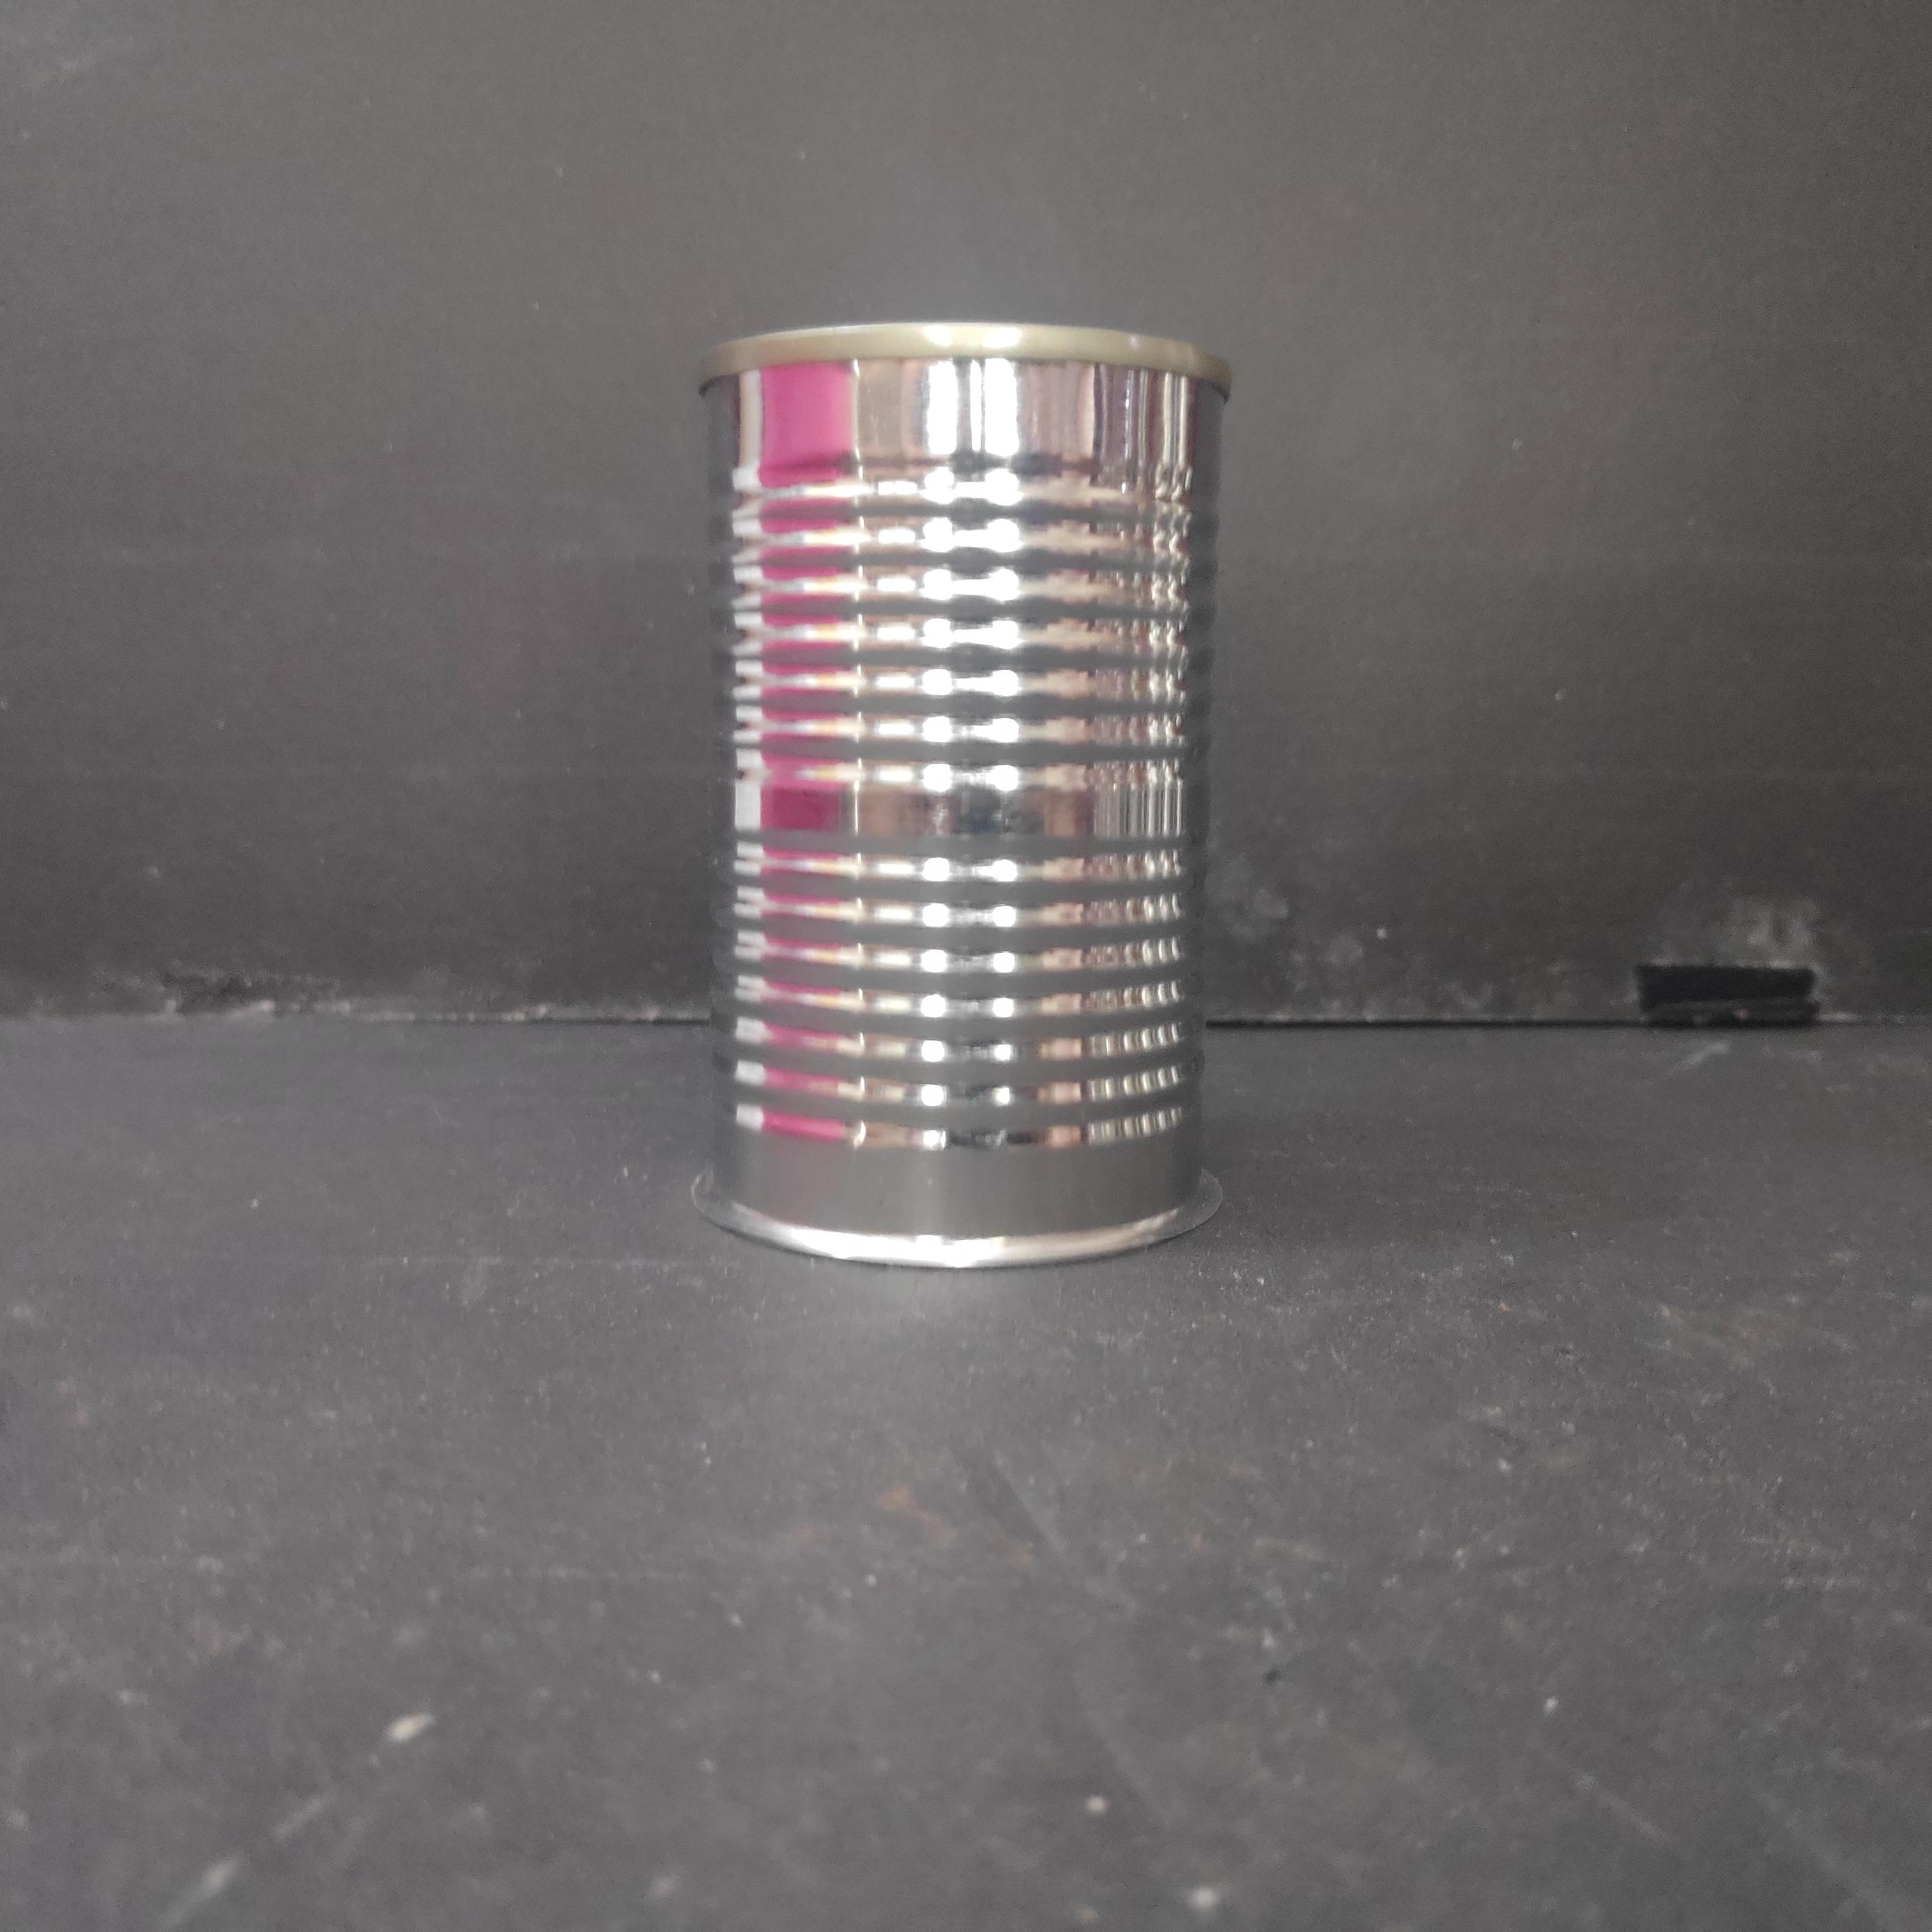No defect: (681, 311, 1233, 1272)
